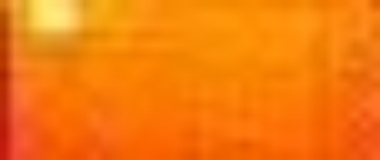Hotspot: (24, 1, 89, 31)
